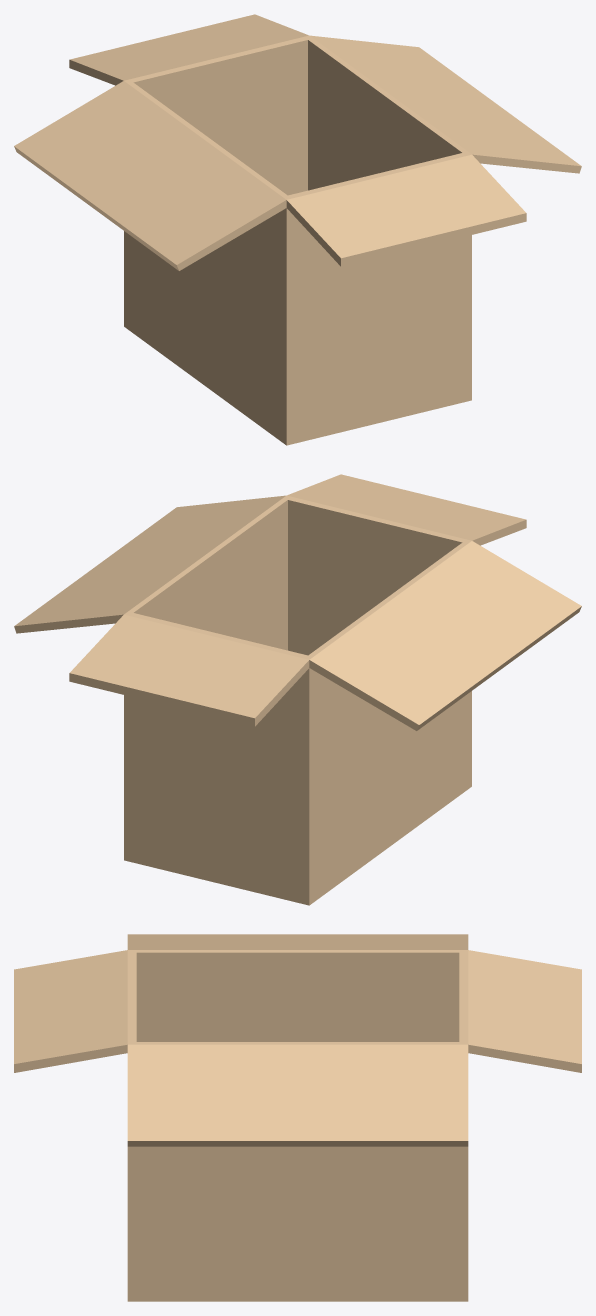
The picture shows the model from 3 angles, top to bottom: view 1: azimuth 30°, elevation 25°; view 2: azimuth 150°, elevation 25°; view 3: azimuth 270°, elevation 25°; orthographic projection. The views are drawn at different scales.
Parts seen in each view (by area): view 1: box; view 2: box; view 3: box.
Part boxes in pixels (x1,y1,x2,y2): box: (14,14,581,445); box: (14,474,581,905); box: (14,934,581,1301).
Size of the model in its own units: 1.73 by 1.01 by 2.01.
